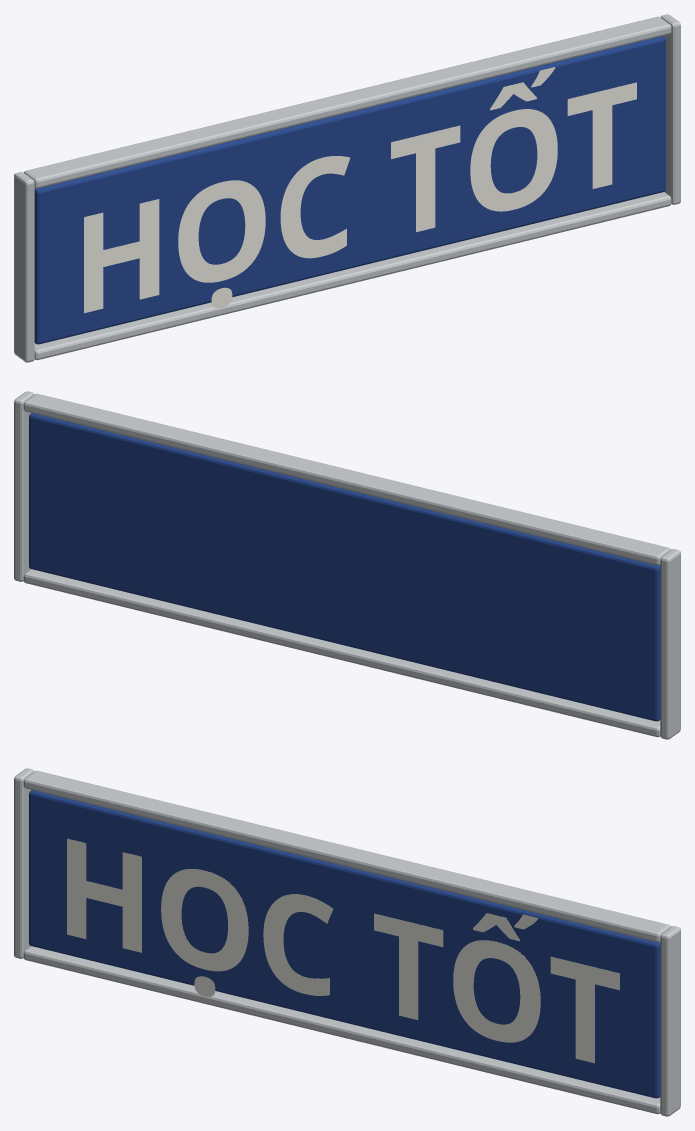
File: slogan_study_well.glb
3 views of the same model, one above another, from view 1: azimuth 30°, elevation 25°; view 2: azimuth 150°, elevation 25°; view 3: azimuth 330°, elevation 25° (orthographic).
Visible parts, largest first — view 1: KAClass_slogan_study_well_Blue_Panel, KAClass_slogan_study_well_Lettering, KAClass_slogan_study_well_Silver_Rim_Horizontal.001, KAClass_slogan_study_well_Silver_Rim_Horizontal, KAClass_slogan_study_well_Silver_Rim_Vertical, KAClass_slogan_study_well_Silver_Rim_Vertical.001; view 2: KAClass_slogan_study_well_Blue_Panel, KAClass_slogan_study_well_Silver_Rim_Horizontal.001, KAClass_slogan_study_well_Silver_Rim_Horizontal, KAClass_slogan_study_well_Silver_Rim_Vertical, KAClass_slogan_study_well_Silver_Rim_Vertical.001; view 3: KAClass_slogan_study_well_Blue_Panel, KAClass_slogan_study_well_Lettering, KAClass_slogan_study_well_Silver_Rim_Horizontal.001, KAClass_slogan_study_well_Silver_Rim_Horizontal, KAClass_slogan_study_well_Silver_Rim_Vertical.001, KAClass_slogan_study_well_Silver_Rim_Vertical.
Part boxes in pixels (bbox=[...]): KAClass_slogan_study_well_Blue_Panel: bbox=[34, 36, 665, 344]; KAClass_slogan_study_well_Lettering: bbox=[84, 67, 636, 313]; KAClass_slogan_study_well_Silver_Rim_Horizontal.001: bbox=[24, 16, 671, 188]; KAClass_slogan_study_well_Silver_Rim_Horizontal: bbox=[34, 192, 671, 360]; KAClass_slogan_study_well_Silver_Rim_Vertical: bbox=[14, 172, 34, 362]; KAClass_slogan_study_well_Silver_Rim_Vertical.001: bbox=[660, 14, 680, 204]; KAClass_slogan_study_well_Blue_Panel: bbox=[29, 413, 660, 721]; KAClass_slogan_study_well_Silver_Rim_Horizontal.001: bbox=[23, 393, 670, 565]; KAClass_slogan_study_well_Silver_Rim_Horizontal: bbox=[23, 569, 660, 737]; KAClass_slogan_study_well_Silver_Rim_Vertical: bbox=[660, 549, 680, 739]; KAClass_slogan_study_well_Silver_Rim_Vertical.001: bbox=[14, 391, 34, 581]; KAClass_slogan_study_well_Blue_Panel: bbox=[29, 790, 660, 1098]; KAClass_slogan_study_well_Lettering: bbox=[67, 838, 619, 1063]; KAClass_slogan_study_well_Silver_Rim_Horizontal.001: bbox=[23, 770, 670, 942]; KAClass_slogan_study_well_Silver_Rim_Horizontal: bbox=[23, 946, 660, 1114]; KAClass_slogan_study_well_Silver_Rim_Vertical.001: bbox=[660, 926, 680, 1116]; KAClass_slogan_study_well_Silver_Rim_Vertical: bbox=[14, 768, 34, 958].
Size of the model in its own units: 1.02 by 0.27 by 0.0411.
